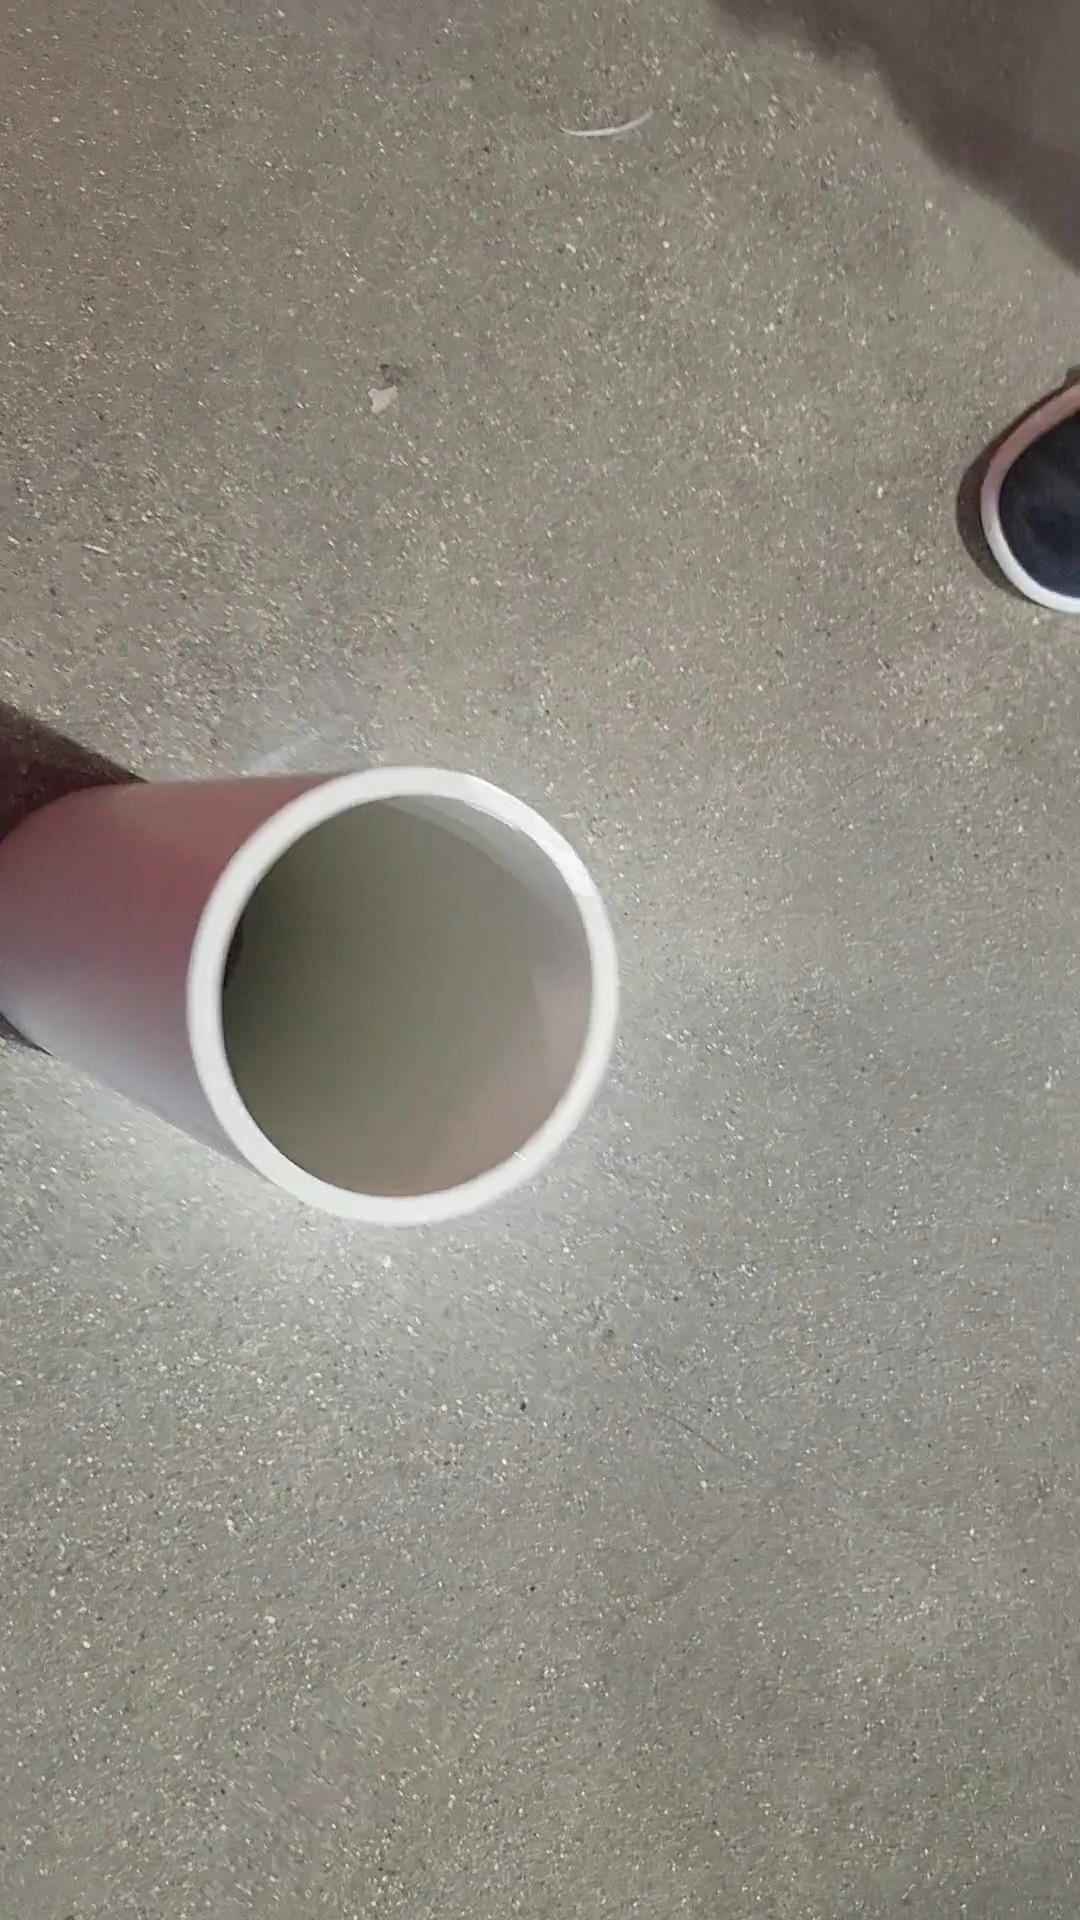coral: (0, 741, 633, 1230)
